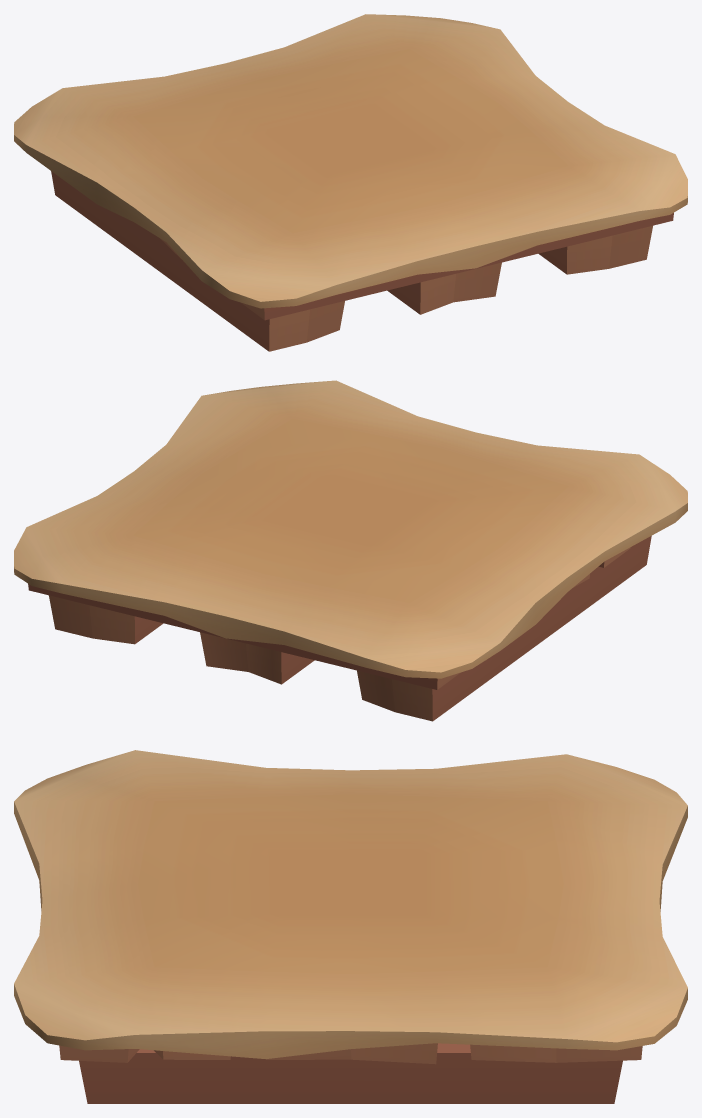
Rendered from pallet.glb.
3 renders of one model, top to bottom at view 1: azimuth 30°, elevation 25°; view 2: azimuth 150°, elevation 25°; view 3: azimuth 270°, elevation 25°, orthographic. The views are drawn at different scales.
Visible parts, largest first — view 1: Pallet_Wood_Covered_A; view 2: Pallet_Wood_Covered_A; view 3: Pallet_Wood_Covered_A.
Boxes of the visible parts, x1=… form: Pallet_Wood_Covered_A: x1=14, y1=14, x2=687, y2=351; Pallet_Wood_Covered_A: x1=14, y1=380, x2=687, y2=721; Pallet_Wood_Covered_A: x1=14, y1=750, x2=687, y2=1103.
Bounding box in the file's own units: 1.72 × 0.3 × 1.72.
Materials: 1 (1 with a texture image).
